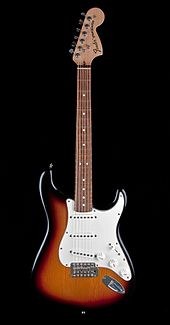ElectricGuitar: (31, 12, 137, 311)
